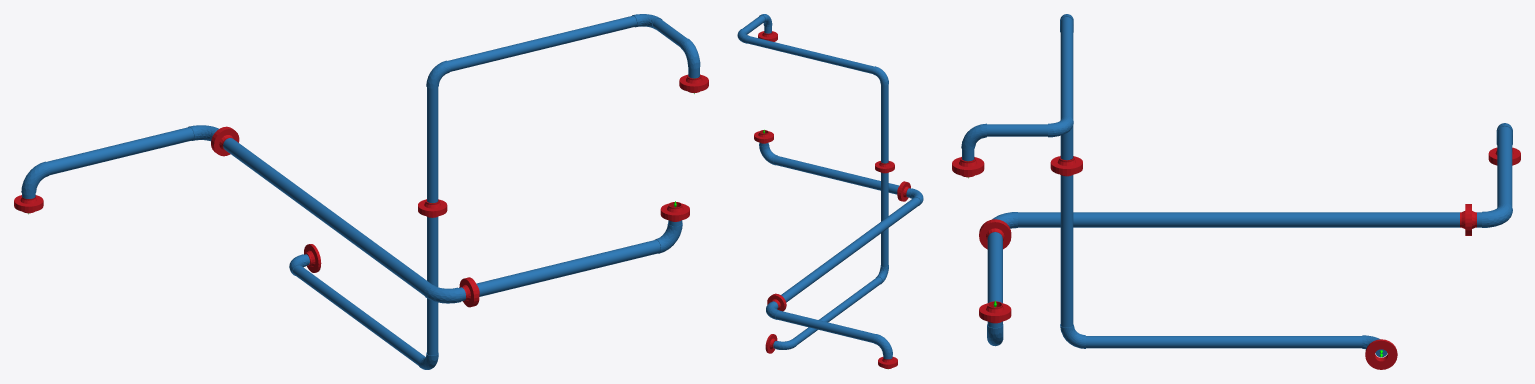
The model's file is Phase22.fbx.
3 views of the same model, side by side, from view 1: azimuth 30°, elevation 25°; view 2: azimuth 150°, elevation 25°; view 3: azimuth 270°, elevation 25° (orthographic). The views are drawn at different scales.
Visible parts, largest first — view 1: Типы трубопроводов:Труба 108х4-12х18н10т:1292225 (×2), Типы трубопроводов:CPS_Полиэтилен сшитый:1285078, Типы трубопроводов:CPS_Полиэтилен сшитый:1285168, Типы трубопроводов:CPS_Полиэтилен сшитый:1285073, Типы трубопроводов:Труба 108х4-12х18н10т:1292283, Типы трубопроводов:Труба 108х4-12х18н10т:1292454, ADSK_СтальСварка_Отвод_ГОСТ17375-2001:Исполнение 1_Оцинкован, RAL5015; view 2: Типы трубопроводов:Труба 108х4-12х18н10т:1292225 (×2), Типы трубопроводов:CPS_Полиэтилен сшитый:1285078, Типы трубопроводов:CPS_Полиэтилен сшитый:1285168, Типы трубопроводов:CPS_Полиэтилен сшитый:1285073, Типы трубопроводов:Труба 108х4-12х18н10т:1292283, Типы трубопроводов:Труба 108х4-12х18н10т:1292454, RAL5015 (×2), RAL_3020 (×2), ADSK_СтальСварка_Отвод_ГОСТ17375-2001:Исполнение 1_Оцинкован, Типы трубопроводов:Труба 108х4-12х18н10т:1292235, СтальСварка_Отвод_ГОСТ17375-2001:Исполнение 1_Неоцинкованные, RAl_3020 (+1 smaller); view 3: Типы трубопроводов:CPS_Полиэтилен сшитый:1285078, Типы трубопроводов:Труба 108х4-12х18н10т:1292225 (×2), Типы трубопроводов:Труба 108х4-12х18н10т:1292283, Типы трубопроводов:CPS_Полиэтилен сшитый:1285073, Типы трубопроводов:CPS_Полиэтилен сшитый:1285168, RAL_3020 (×2), Типы трубопроводов:Труба 108х4-12х18н10т:1292235, CPS_фланец:Фланец стальной:1294172, RAL5015.
Boxes of the visible parts, x1=… form: Типы трубопроводов:Труба 108х4-12х18н10т:1292225 (×2): x1=293, y1=15, x2=636, y2=365; Типы трубопроводов:CPS_Полиэтилен сшитый:1285078: x1=223, y1=138, x2=432, y2=295; Типы трубопроводов:CPS_Полиэтилен сшитый:1285168: x1=476, y1=239, x2=660, y2=296; Типы трубопроводов:CPS_Полиэтилен сшитый:1285073: x1=47, y1=127, x2=193, y2=174; Типы трубопроводов:Труба 108х4-12х18н10т:1292283: x1=427, y1=217, x2=438, y2=355; Типы трубопроводов:Труба 108х4-12х18н10т:1292454: x1=427, y1=87, x2=438, y2=202; ADSK_СтальСварка_Отвод_ГОСТ17375-2001:Исполнение 1_Оцинкован: x1=424, y1=285, x2=462, y2=303; RAL5015: x1=21, y1=161, x2=50, y2=195; Типы трубопроводов:Труба 108х4-12х18н10т:1292225 (×2): x1=745, y1=35, x2=882, y2=345; Типы трубопроводов:CPS_Полиэтилен сшитый:1285078: x1=781, y1=197, x2=920, y2=302; Типы трубопроводов:CPS_Полиэтилен сшитый:1285168: x1=774, y1=156, x2=899, y2=194; Типы трубопроводов:CPS_Полиэтилен сшитый:1285073: x1=775, y1=310, x2=875, y2=343; Типы трубопроводов:Труба 108х4-12х18н10т:1292283: x1=881, y1=173, x2=888, y2=267; Типы трубопроводов:Труба 108х4-12х18н10т:1292454: x1=881, y1=84, x2=888, y2=163; RAL5015 (×2): x1=775, y1=334, x2=892, y2=356; RAL_3020 (×2): x1=754, y1=130, x2=910, y2=201; ADSK_СтальСварка_Отвод_ГОСТ17375-2001:Исполнение 1_Оцинкован: x1=759, y1=144, x2=777, y2=165; Типы трубопроводов:Труба 108х4-12х18н10т:1292235: x1=742, y1=15, x2=765, y2=34; СтальСварка_Отвод_ГОСТ17375-2001:Исполнение 1_Неоцинкованные: x1=872, y1=66, x2=888, y2=85; RAl_3020: x1=767, y1=294, x2=785, y2=311; Типы трубопроводов:CPS_Полиэтилен сшитый:1285078: x1=1018, y1=212, x2=1459, y2=227; Типы трубопроводов:Труба 108х4-12х18н10т:1292225 (×2): x1=1060, y1=17, x2=1362, y2=348; Типы трубопроводов:Труба 108х4-12х18н10т:1292283: x1=1060, y1=175, x2=1073, y2=327; Типы трубопроводов:CPS_Полиэтилен сшитый:1285073: x1=1497, y1=126, x2=1512, y2=206; Типы трубопроводов:CPS_Полиэтилен сшитый:1285168: x1=987, y1=232, x2=1002, y2=303; RAL_3020 (×2): x1=979, y1=220, x2=1011, y2=319; Типы трубопроводов:Труба 108х4-12х18н10т:1292235: x1=987, y1=124, x2=1047, y2=136; CPS_фланец:Фланец стальной:1294172: x1=1365, y1=339, x2=1397, y2=369; RAL5015: x1=1482, y1=203, x2=1512, y2=227.
Size of the model in its own units: 4028 by 4053 by 2739.
